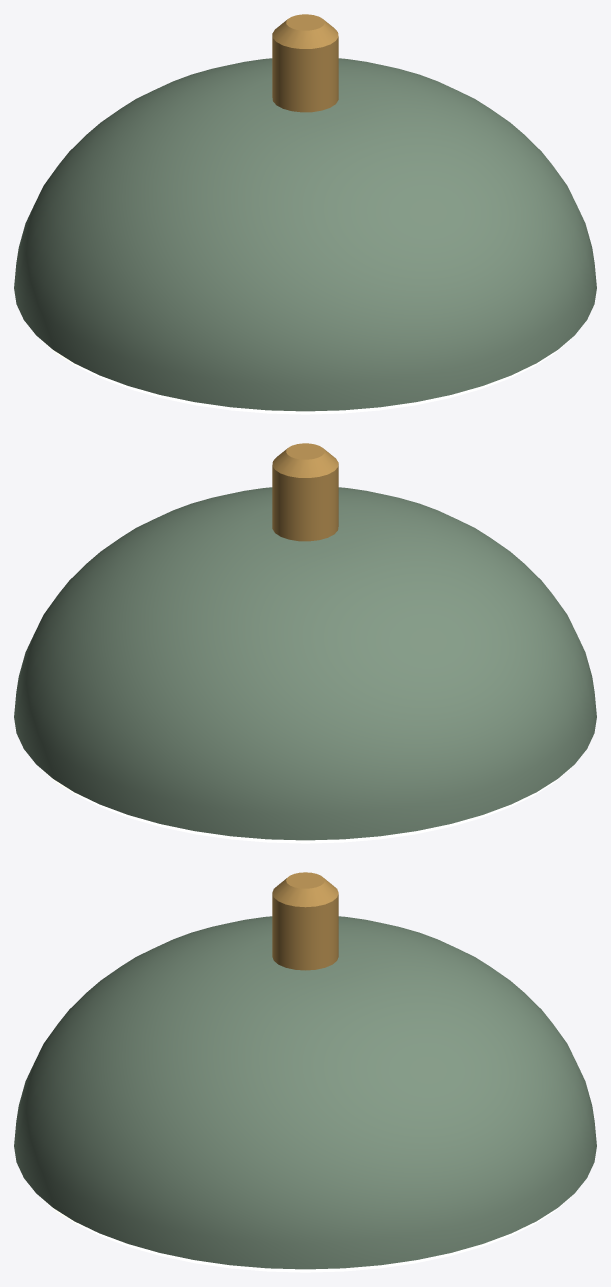
The model's file is dome_sage.glb.
3 renders of one model, top to bottom at view 1: azimuth 30°, elevation 25°; view 2: azimuth 150°, elevation 25°; view 3: azimuth 270°, elevation 25°, orthographic.
Parts seen in each view (by area): view 1: dome_sage; view 2: dome_sage; view 3: dome_sage.
Boxes of the visible parts, x1,y1,x2,y2 form: dome_sage: [14, 14, 596, 414]; dome_sage: [14, 443, 596, 843]; dome_sage: [14, 872, 596, 1272].
Size of the model in its own units: 0.42 by 0.2152 by 0.42.
